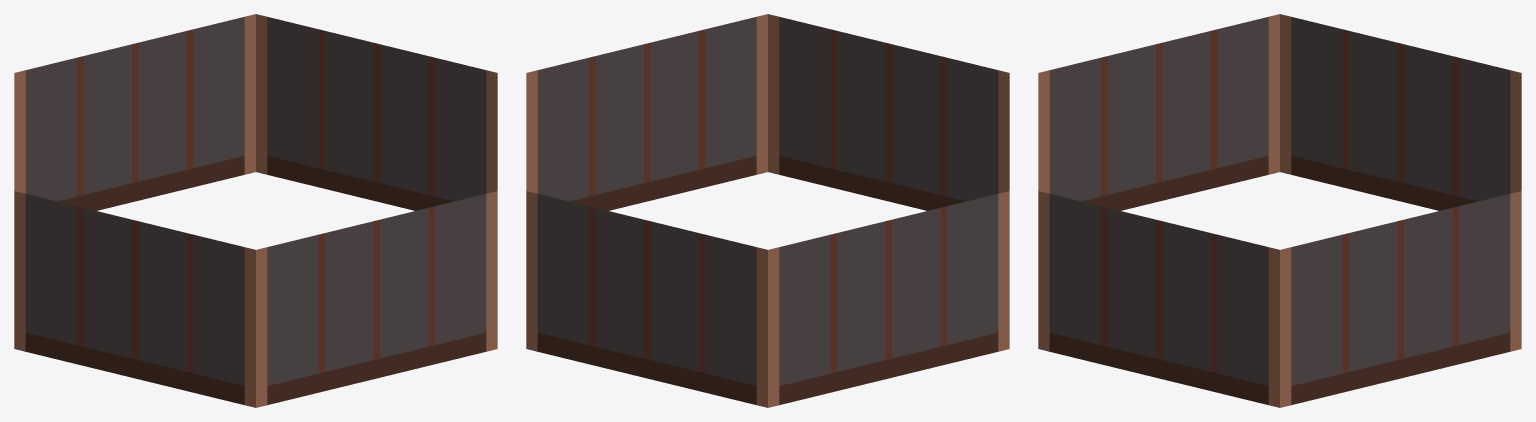
File: TB_CITY_Skysc_H_BodyB_Brown.FBX
3 views of the same model, side by side, from view 1: azimuth 30°, elevation 25°; view 2: azimuth 150°, elevation 25°; view 3: azimuth 270°, elevation 25° (orthographic).
Parts seen in each view (by area): view 1: TB_CITY_Skysc_H_BodyB_Brown; view 2: TB_CITY_Skysc_H_BodyB_Brown; view 3: TB_CITY_Skysc_H_BodyB_Brown.
Boxes of the visible parts, <box> form: TB_CITY_Skysc_H_BodyB_Brown: <box>14,14,497,407</box>; TB_CITY_Skysc_H_BodyB_Brown: <box>526,14,1009,407</box>; TB_CITY_Skysc_H_BodyB_Brown: <box>1038,14,1521,407</box>.
Bounding box in the file's own units: 16 × 5 × 13.86.
